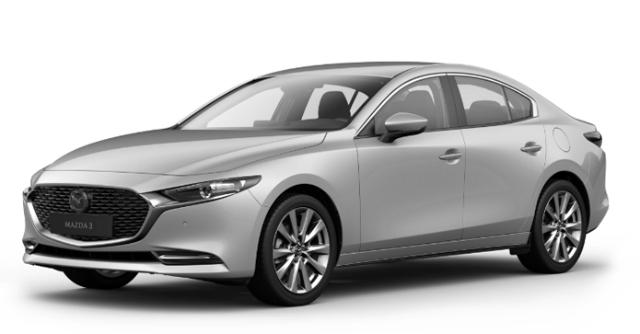sedan: (16, 48, 614, 318)
